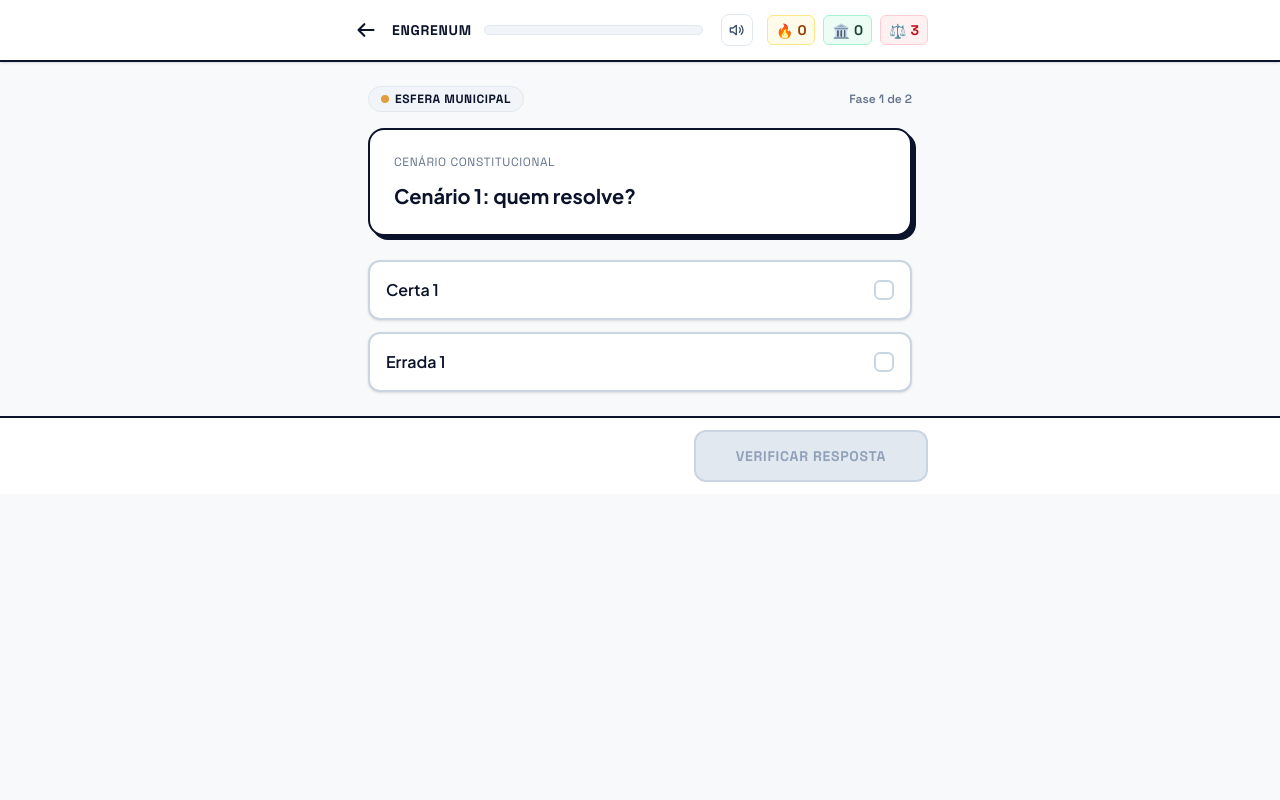
Test: EngrenumQuiz › costs a life and shows the right answer on a mistake
Click the button "Errada 1": click(416, 361) [368,332,912,392]
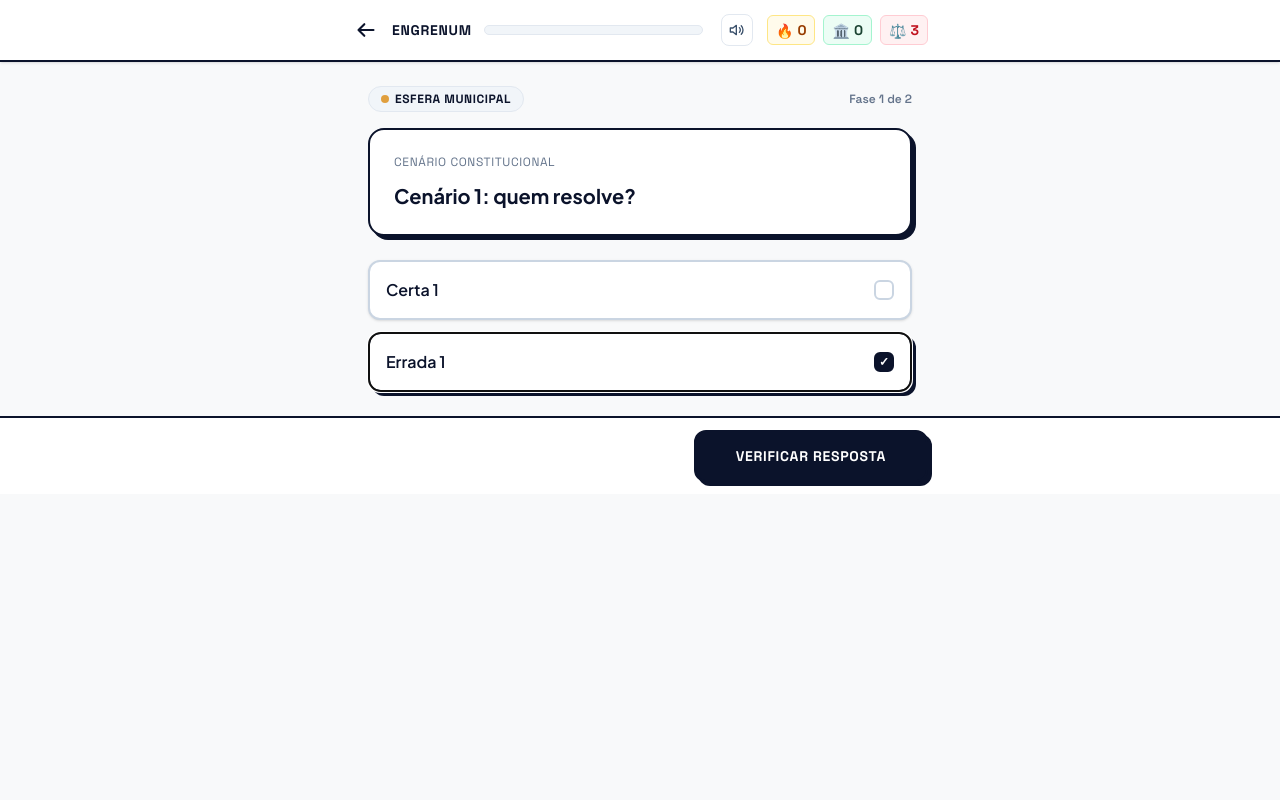
Click the button "Verificar Resposta": click(811, 456) [694,430,928,482]
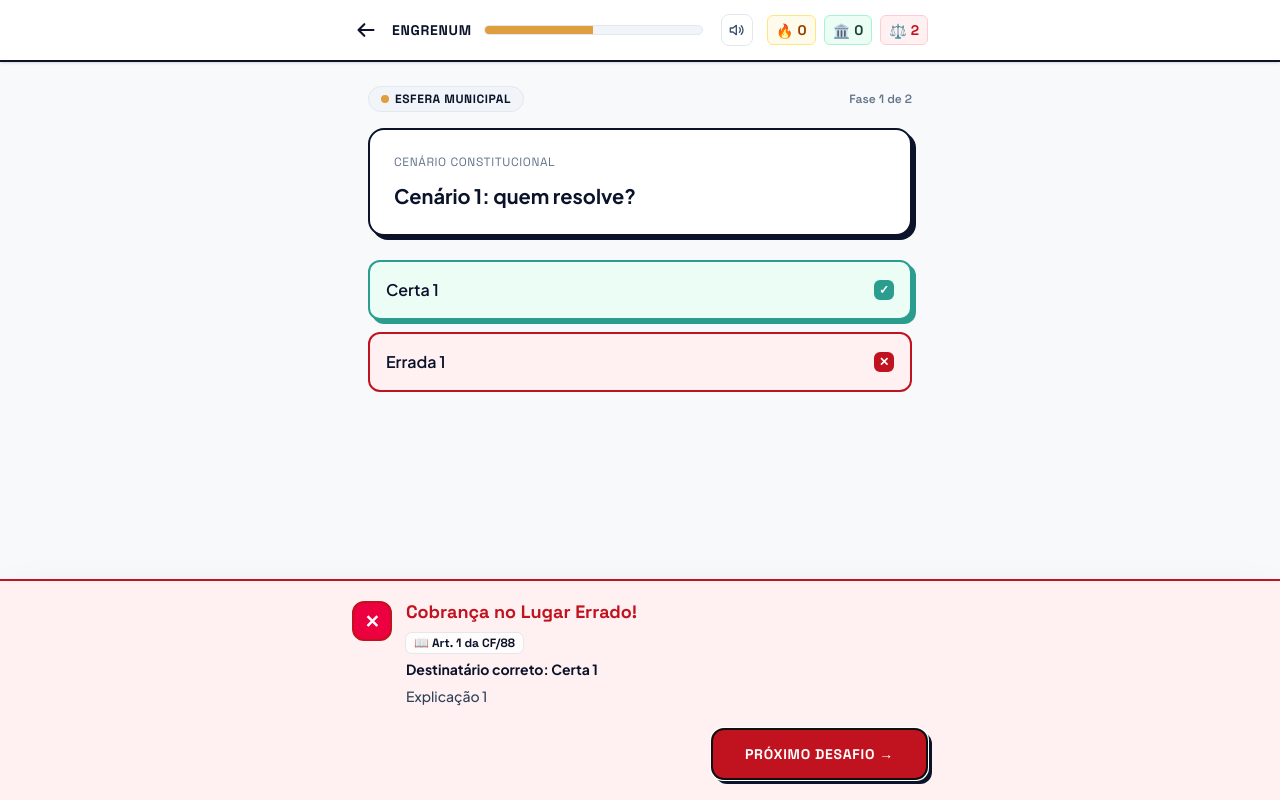
Expected: the message shows "Cobrança no Lugar Errado!", [406,600,637,623]
Expected: the element titled "Fichas de credibilidade (vidas)" shows "2", [911,21,919,39]
